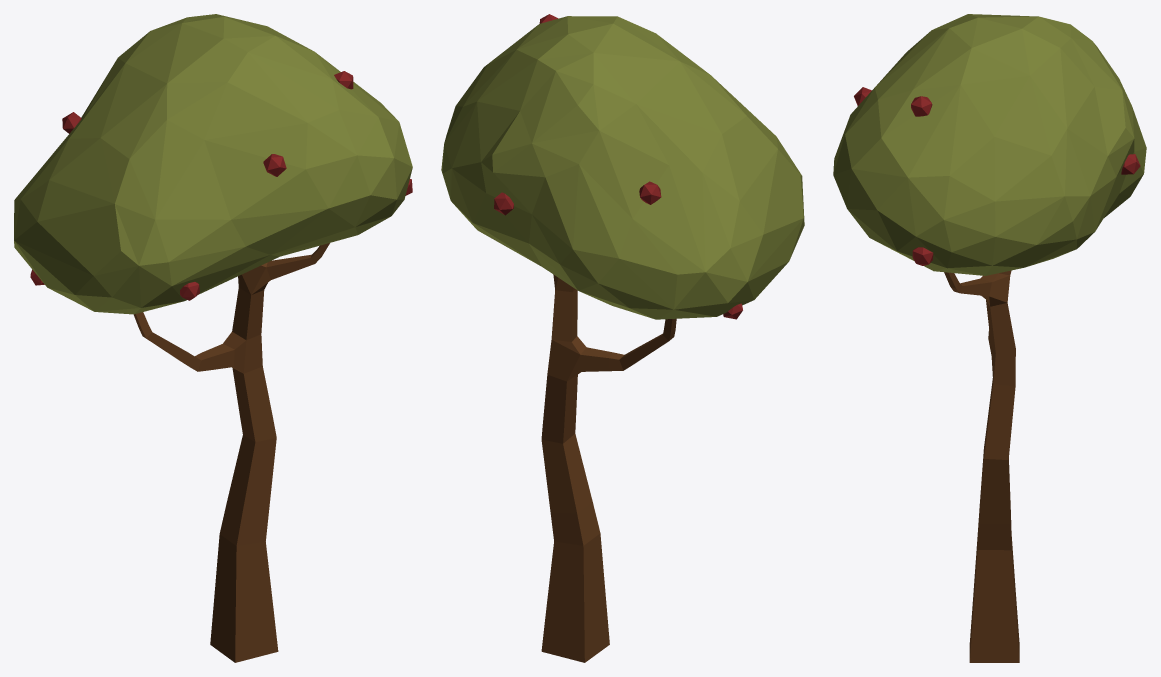
Rendered from apple tree.fbx.
The picture shows the model from 3 angles, left to right: view 1: azimuth 30°, elevation 25°; view 2: azimuth 150°, elevation 25°; view 3: azimuth 270°, elevation 25°; orthographic projection.
Visible parts, largest first — view 1: apple tree; view 2: apple tree; view 3: apple tree.
Boxes of the visible parts, x1=… form: apple tree: x1=14, y1=14, x2=412, y2=662; apple tree: x1=441, y1=14, x2=804, y2=662; apple tree: x1=833, y1=14, x2=1146, y2=662.
Size of the model in its own units: 517 by 923 by 422.
